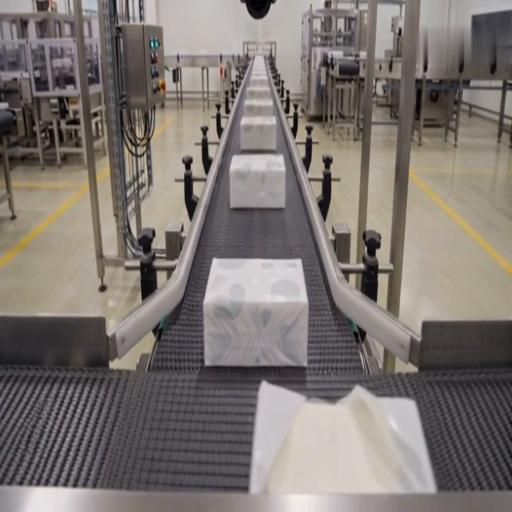defective: (252, 378, 434, 497), (204, 257, 308, 368)
good: (228, 153, 286, 212), (239, 115, 278, 154), (243, 97, 275, 117), (246, 82, 271, 98), (248, 57, 270, 74), (248, 71, 270, 87)
